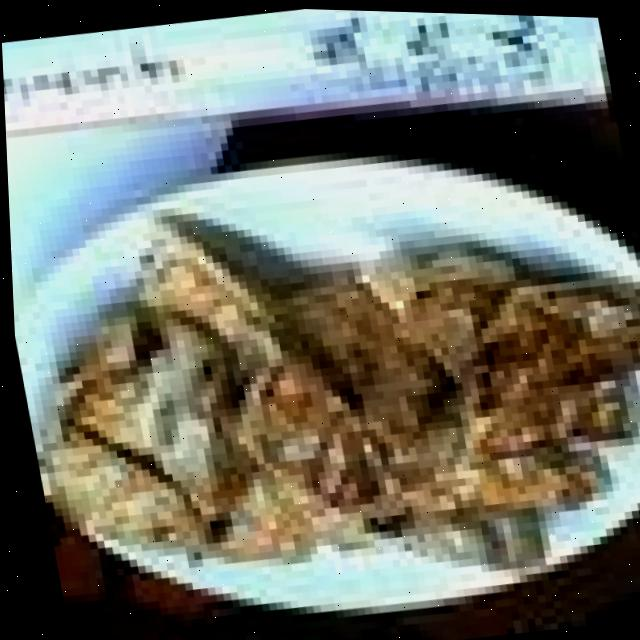带馅早点: (4, 109, 640, 640)
